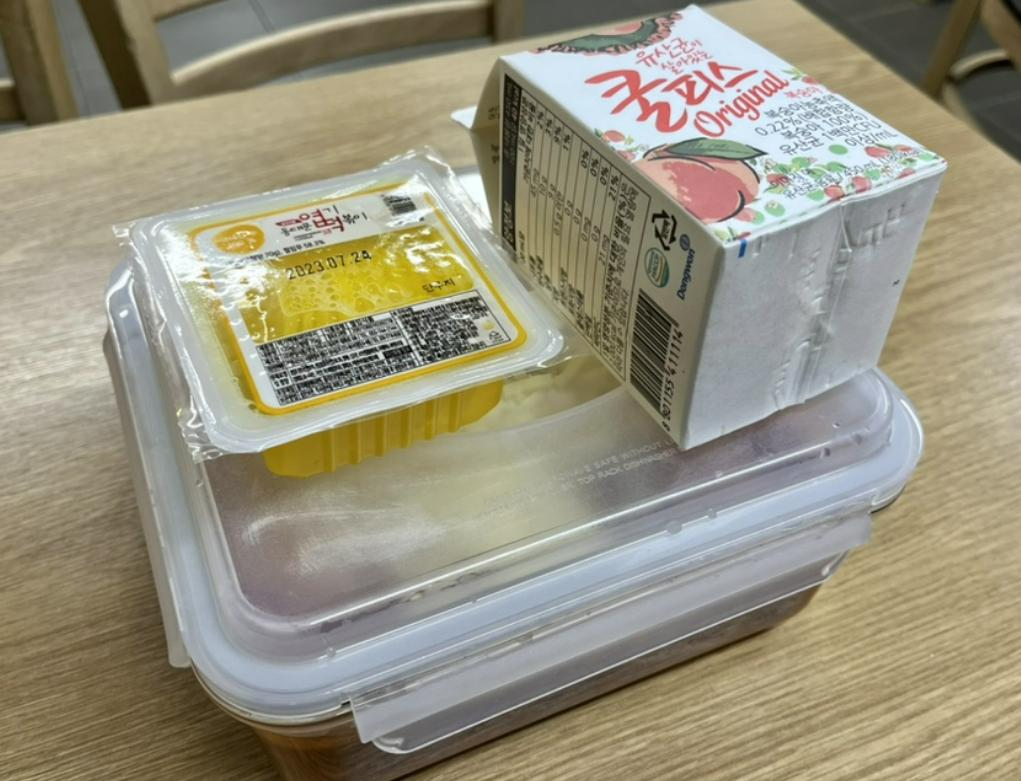Lunch Box: (106, 265, 922, 780), (117, 151, 566, 476)
